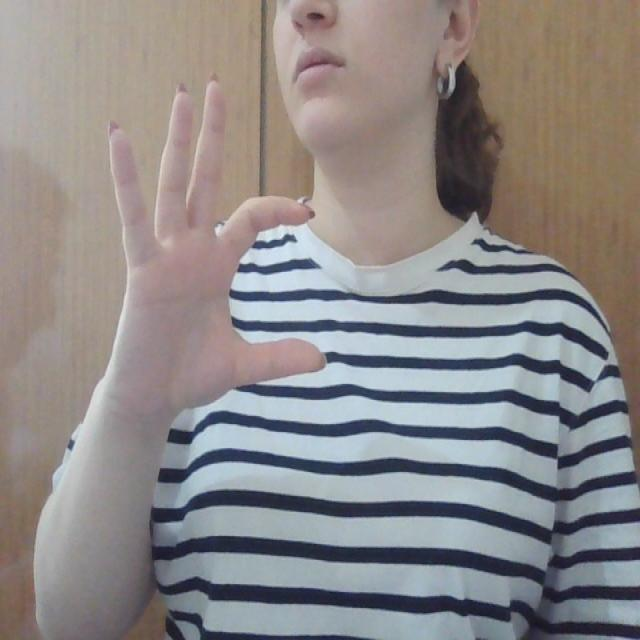Tuvalet: (95, 61, 342, 441)
